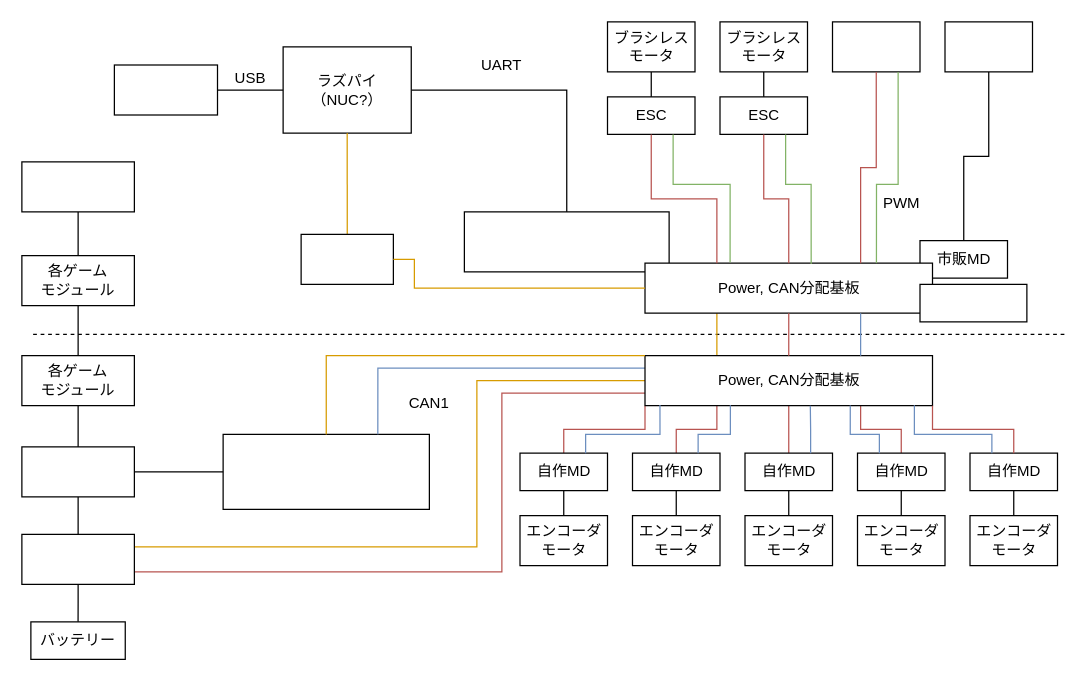
Some shapes in this 1088 by 681 pixel diagram are drawn without their labels. The centre of each missing label's shape, as x and y in pixels:
"CAN トランシーバー" belongs at point (973, 302).
"DCDC" belongs at point (346, 258).
"main開発ボード 自作ボード（ジャイロ搭載）" belongs at point (325, 471).
"sub開発ボード f303k8? 自作ボード？" belongs at point (566, 241).
"カメラ モジュール" belongs at point (77, 186).
"サーボ モータ" belongs at point (875, 46).
"小型 モータ" belongs at point (988, 46).
"情報取得 モジュール" belongs at point (77, 471).
"画像認識 カメラ" belongs at point (165, 89).
"電源管理 モジュール" belongs at point (77, 558).
